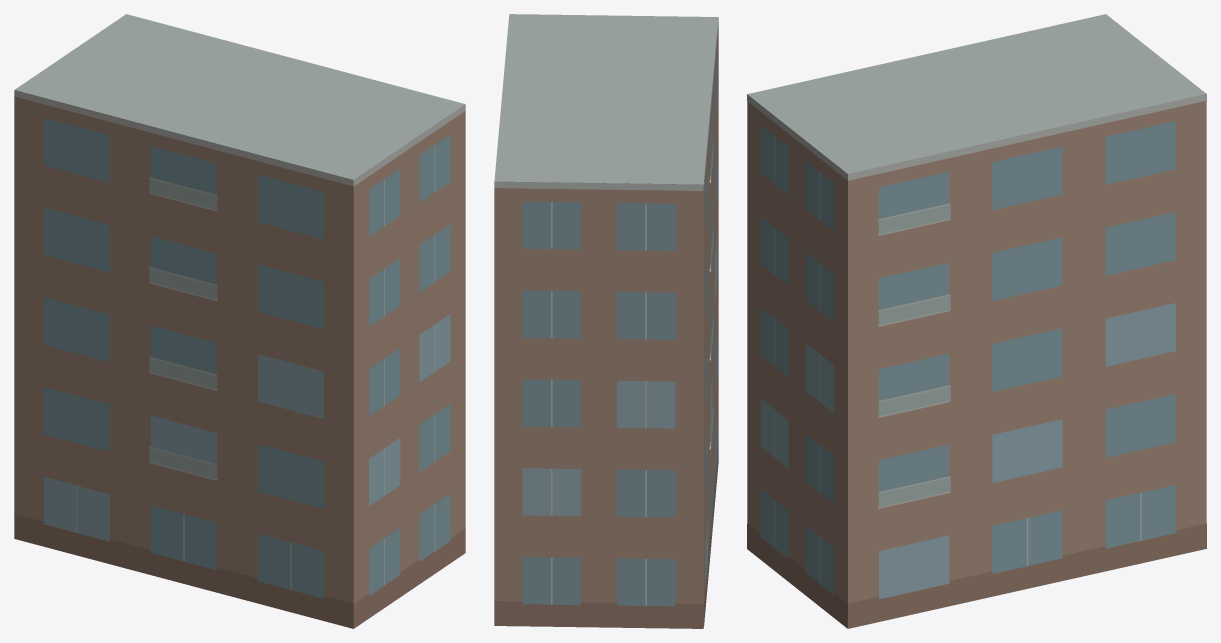
The model's file is survey-upis-32930881.glb.
3 renders of one model, left to right at view 1: azimuth 30°, elevation 25°; view 2: azimuth 150°, elevation 25°; view 3: azimuth 270°, elevation 25°, orthographic. The views are drawn at different scales.
Visible parts, largest first — view 1: survey-upis-32930881.tmp; view 2: survey-upis-32930881.tmp; view 3: survey-upis-32930881.tmp.
Boxes of the visible parts, x1,y1,x2,y2 form: survey-upis-32930881.tmp: (14, 14, 465, 628); survey-upis-32930881.tmp: (494, 14, 718, 628); survey-upis-32930881.tmp: (747, 14, 1206, 628).
Bounding box in the file's own units: 12.54 × 16.6 × 15.22.
